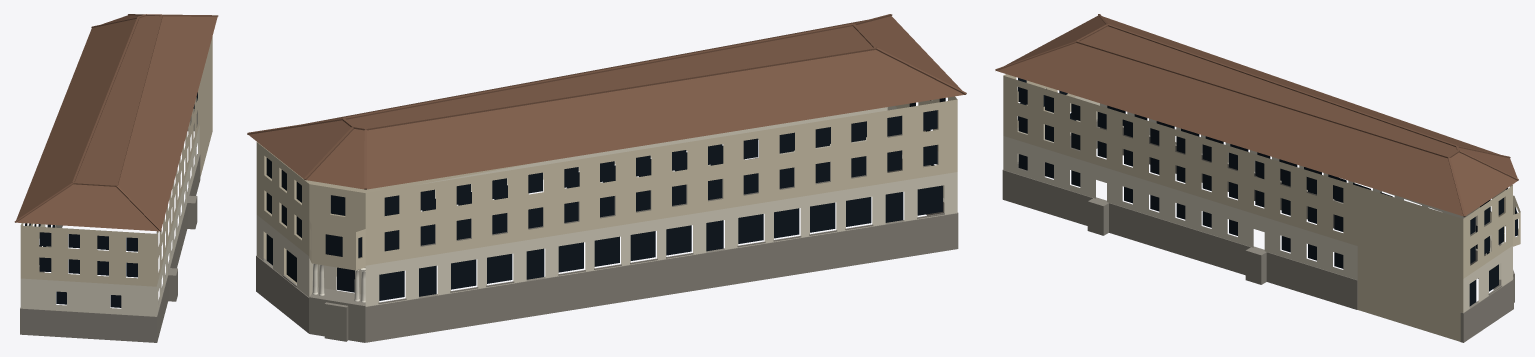
File: genpetrova1.lod.glb
3 views of the same model, side by side, from view 1: azimuth 30°, elevation 25°; view 2: azimuth 150°, elevation 25°; view 3: azimuth 270°, elevation 25° (orthographic). The views are drawn at different scales.
Visible parts, largest first — view 1: genpetrova1_roof, genpetrova1_wall, genpetrova1_stone, genpetrova1_wall2, genpetrova1_glass; view 2: genpetrova1_roof, genpetrova1_wall, genpetrova1_stone, genpetrova1_glass, genpetrova1_wall2, genpetrova1_trim_s; view 3: genpetrova1_roof, genpetrova1_wall, genpetrova1_stone, genpetrova1_wall2, genpetrova1_glass.
Boxes of the visible parts, x1,y1,x2,y2 form: genpetrova1_roof: (14,14,218,231); genpetrova1_wall: (20,36,212,286); genpetrova1_stone: (20,106,212,342); genpetrova1_wall2: (20,125,199,316); genpetrova1_glass: (25,92,197,307); genpetrova1_roof: (247,14,966,189); genpetrova1_wall: (256,96,957,283); genpetrova1_stone: (256,154,958,342); genpetrova1_glass: (266,98,945,300); genpetrova1_wall2: (256,106,957,306); genpetrova1_trim_s: (312,263,365,302); genpetrova1_roof: (995,14,1518,216); genpetrova1_wall: (1003,74,1520,341); genpetrova1_stone: (1002,119,1514,342); genpetrova1_wall2: (1003,96,1512,312); genpetrova1_glass: (1018,78,1517,306).
Size of the model in its own units: 48.94 by 17.42 by 53.81.
